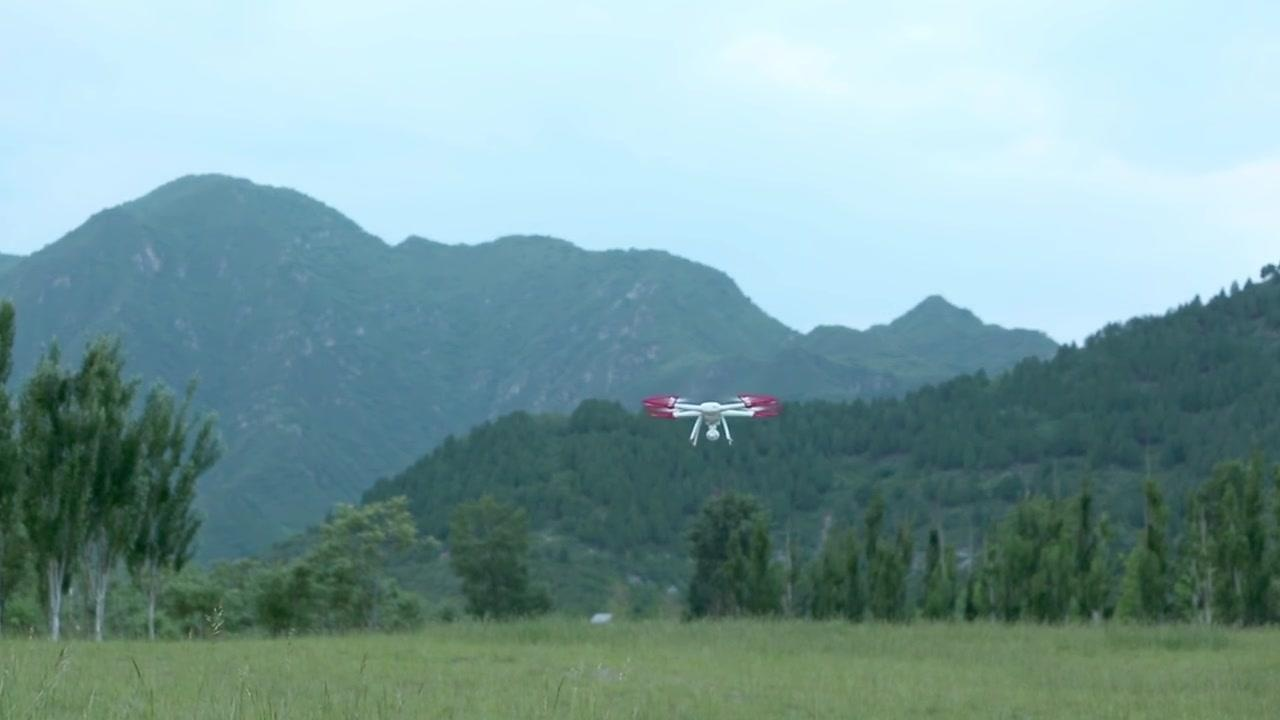UAV: (643, 396, 783, 447)
